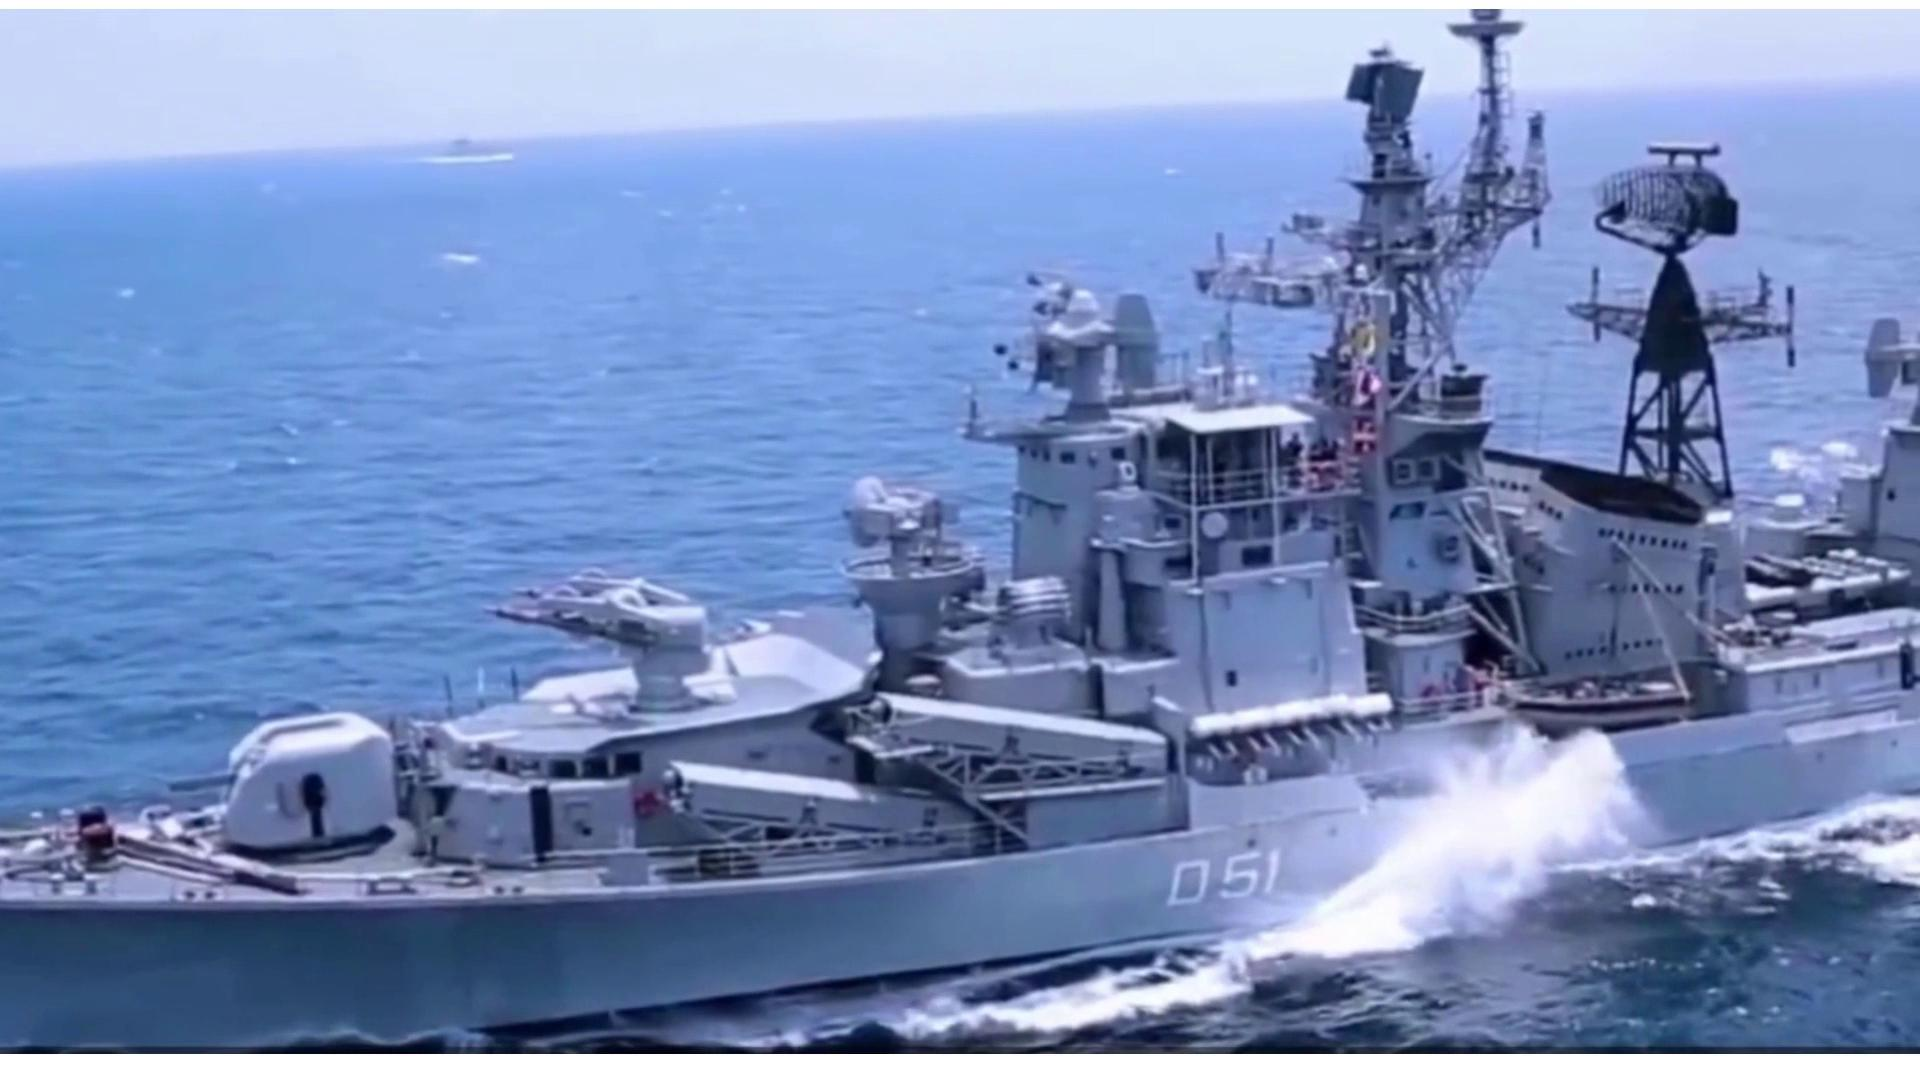OCR: (1140, 841, 1280, 926)
